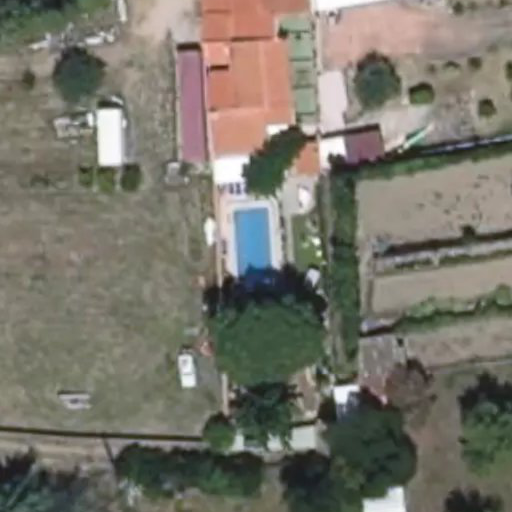pool: (231, 204, 279, 279)
